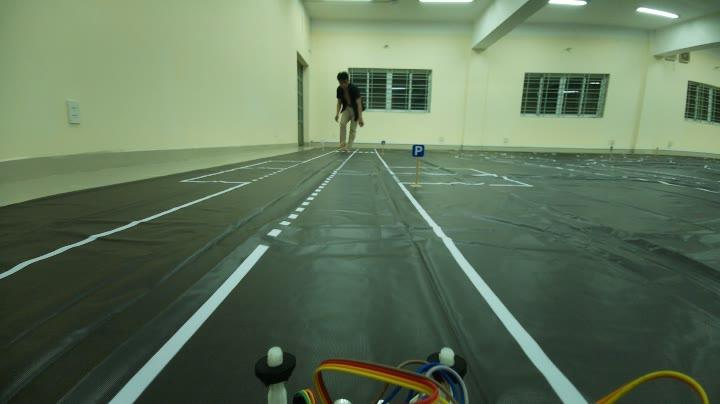parking: (409, 139, 428, 161)
